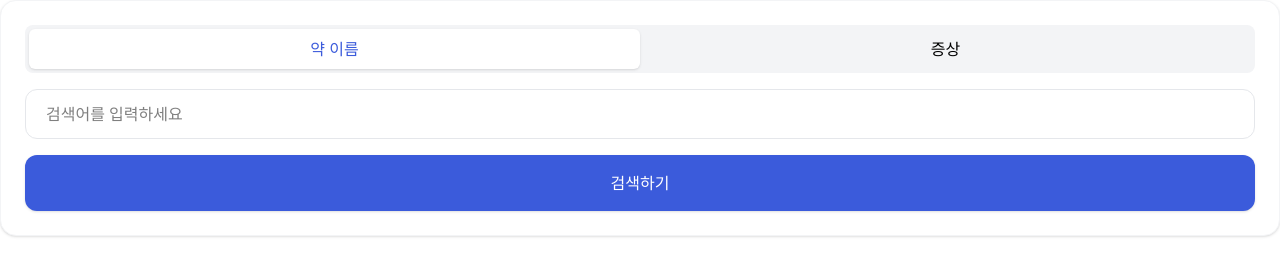
Scenario: SearchForm 사용자 상호작용 › 라디오 버튼 클릭 시 상태 변경
The width and height of the screenshot is (1280, 254).
Expected: the radio button labelled "약 이름" is checked, left=29, top=29, right=640, bottom=69
Click the radio button labelled "증상" at (946, 49), box left=931, top=38, right=960, bottom=60
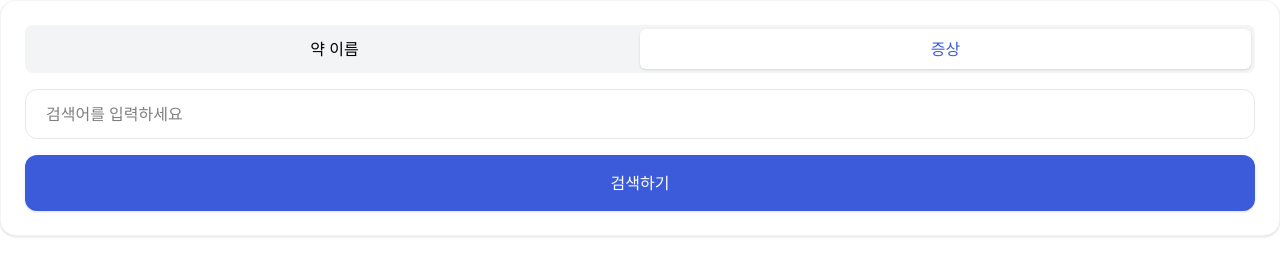
Now the radio button labelled "증상" is checked, box left=640, top=29, right=1251, bottom=69
Now the radio button labelled "약 이름" is not checked, box left=310, top=38, right=359, bottom=60
